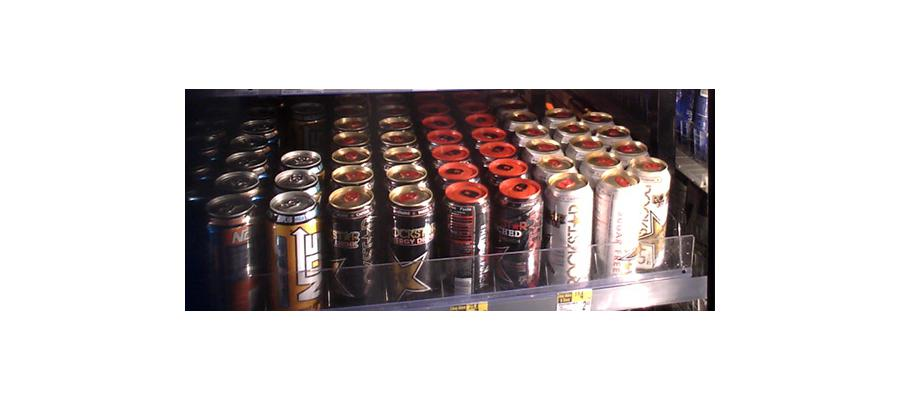bottle: (203, 189, 258, 309), (267, 187, 321, 307), (491, 169, 541, 289), (328, 178, 377, 300), (596, 165, 646, 279), (388, 182, 433, 297), (630, 151, 672, 269), (547, 169, 590, 283), (443, 181, 486, 293)
